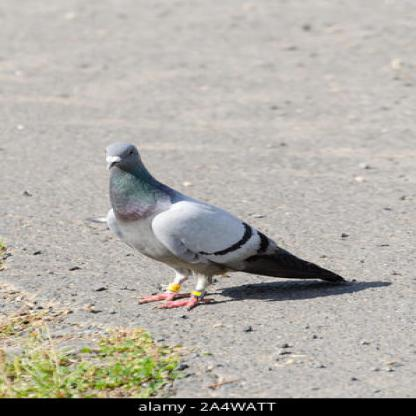Rock Pigeon: (94, 141, 346, 305)
